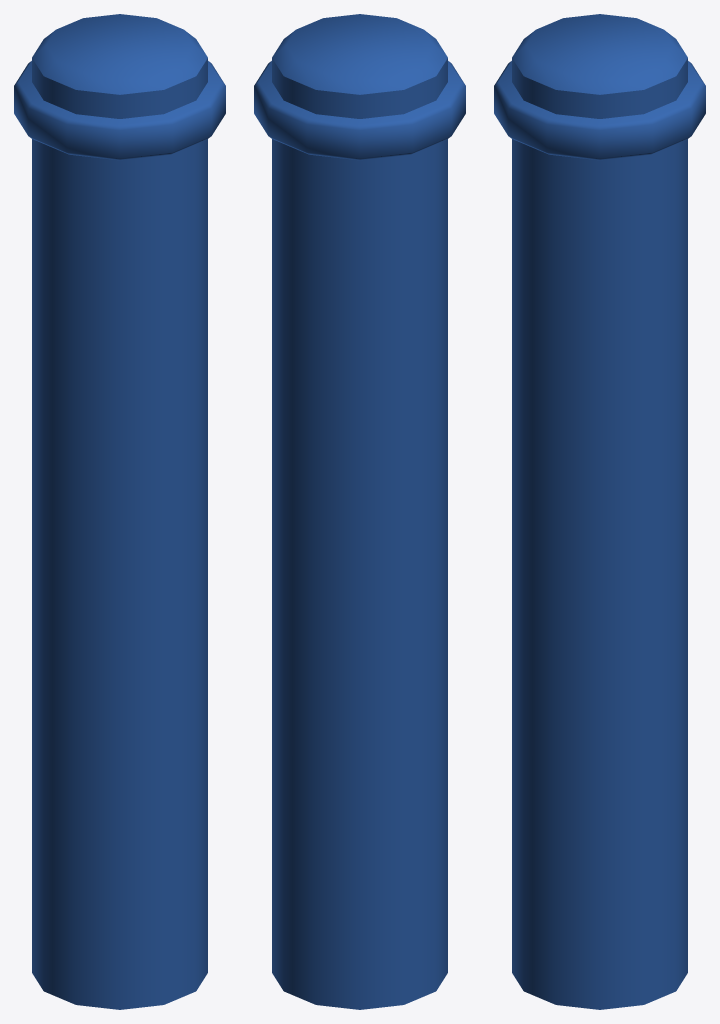
The model's file is mcp_bollard_02_LOD_0.FBX.
3 renders of one model, left to right at view 1: azimuth 30°, elevation 25°; view 2: azimuth 150°, elevation 25°; view 3: azimuth 270°, elevation 25°, orthographic.
Parts seen in each view (by area): view 1: mcp_bollard_02; view 2: mcp_bollard_02; view 3: mcp_bollard_02.
Boxes of the visible parts, x1,y1,x2,y2 form: mcp_bollard_02: [14, 14, 225, 1009]; mcp_bollard_02: [254, 14, 465, 1009]; mcp_bollard_02: [494, 14, 705, 1009].
Bounding box in the file's own units: 18.89 × 91.31 × 18.89.
